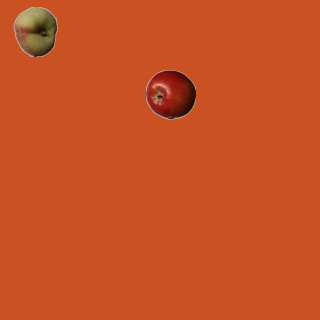Apple Braeburn: (145, 69, 195, 119)
Peach Flat: (10, 6, 60, 56)
